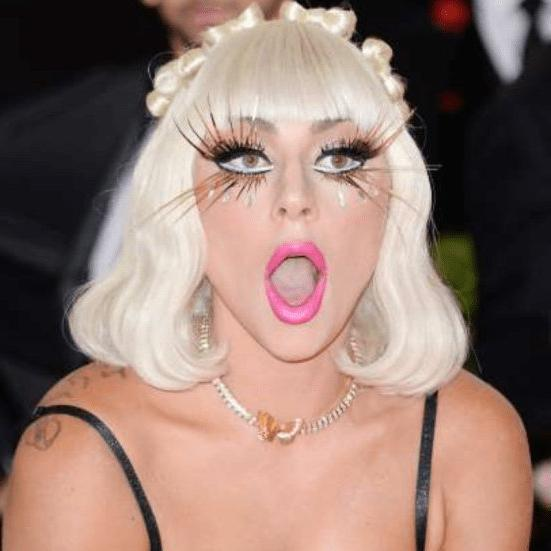Drunk: (207, 117, 387, 358)
